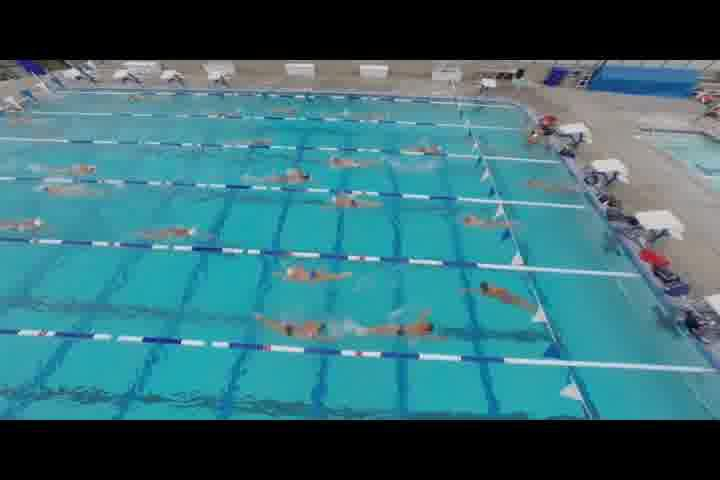swimmer: (356, 310, 442, 337), (280, 259, 352, 282), (262, 318, 334, 340), (479, 281, 530, 308)
